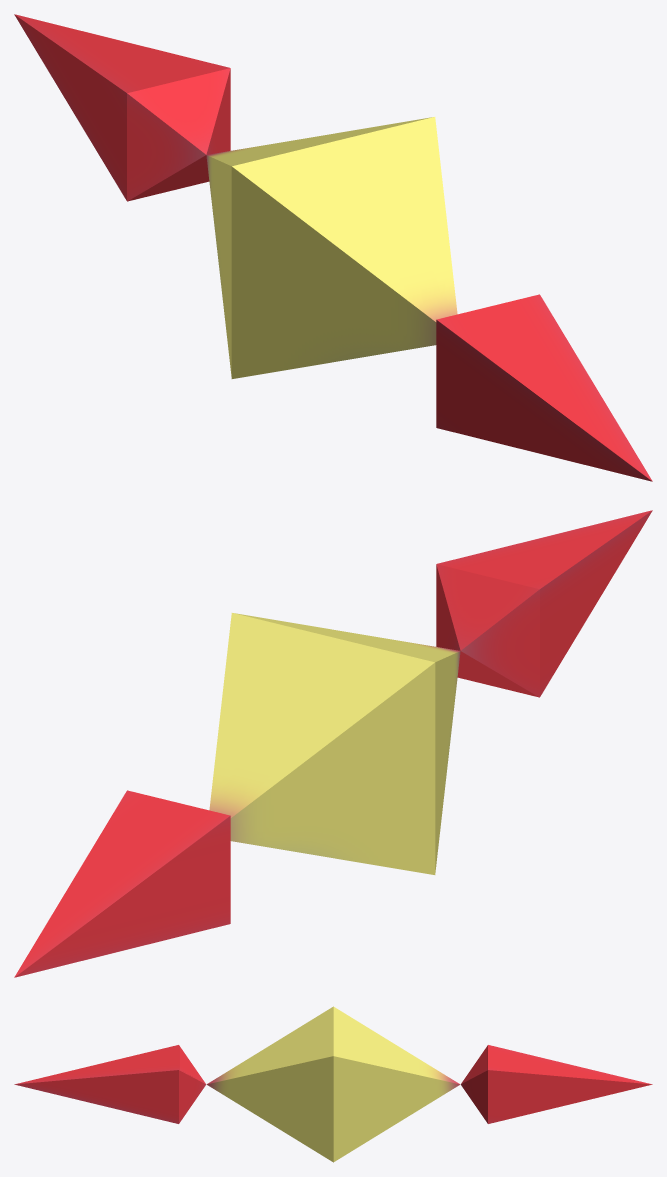
The model's file is enemy_arm.obj.
3 renders of one model, top to bottom at view 1: azimuth 30°, elevation 25°; view 2: azimuth 150°, elevation 25°; view 3: azimuth 270°, elevation 25°, orthographic. The views are drawn at different scales.
Visible parts, largest first — view 1: 立方体; view 2: 立方体; view 3: 立方体.
Boxes of the visible parts, bbox=[...] form: 立方体: bbox=[14, 14, 652, 481]; 立方体: bbox=[14, 510, 652, 977]; 立方体: bbox=[14, 1006, 652, 1162].
Bounding box in the file's own units: 0.6437 × 0.6437 × 3.5.
Materials: 1 (1 with a texture image).
